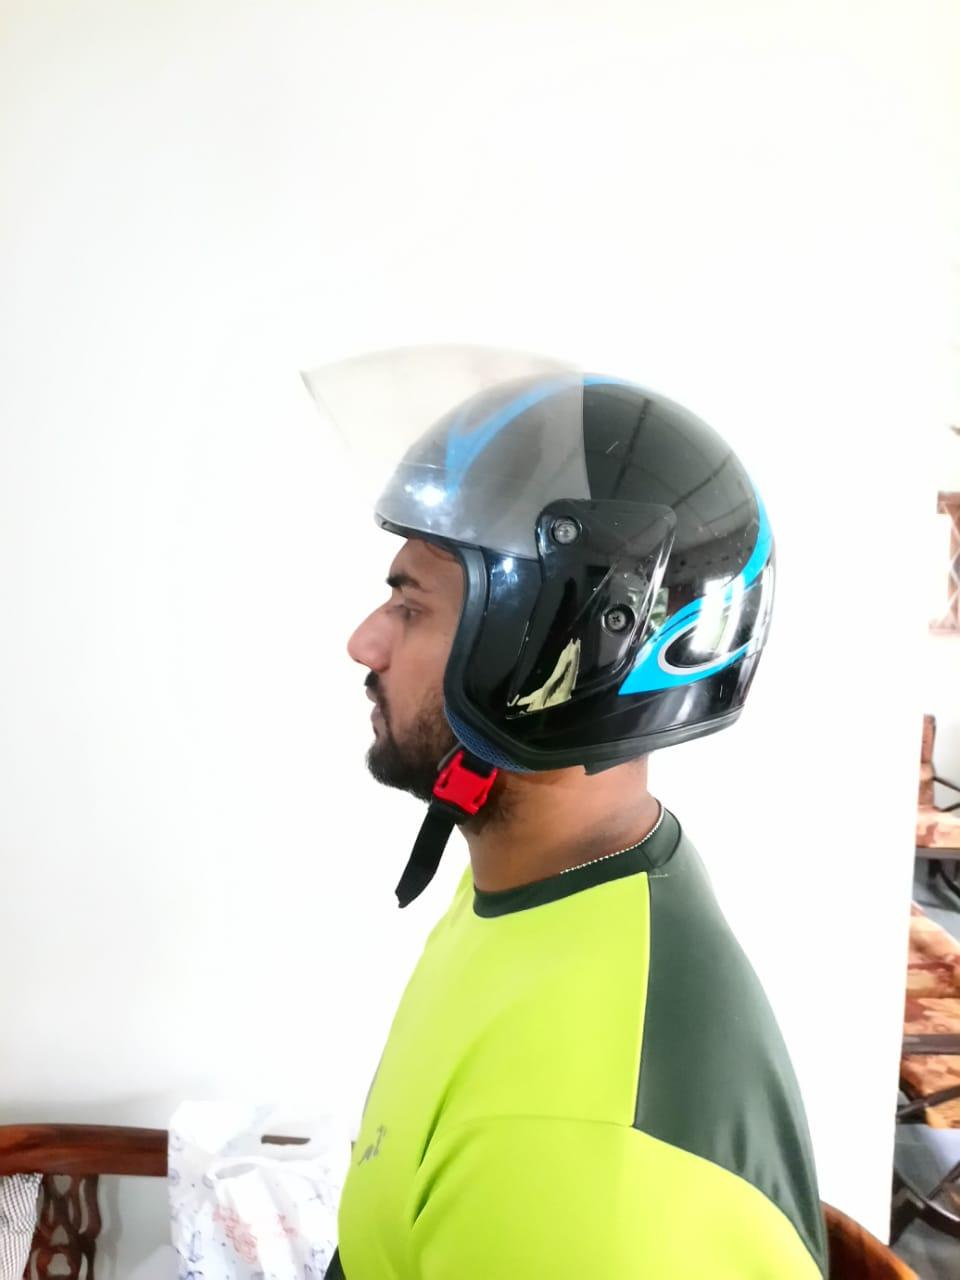helmet: (290, 343, 778, 771)
